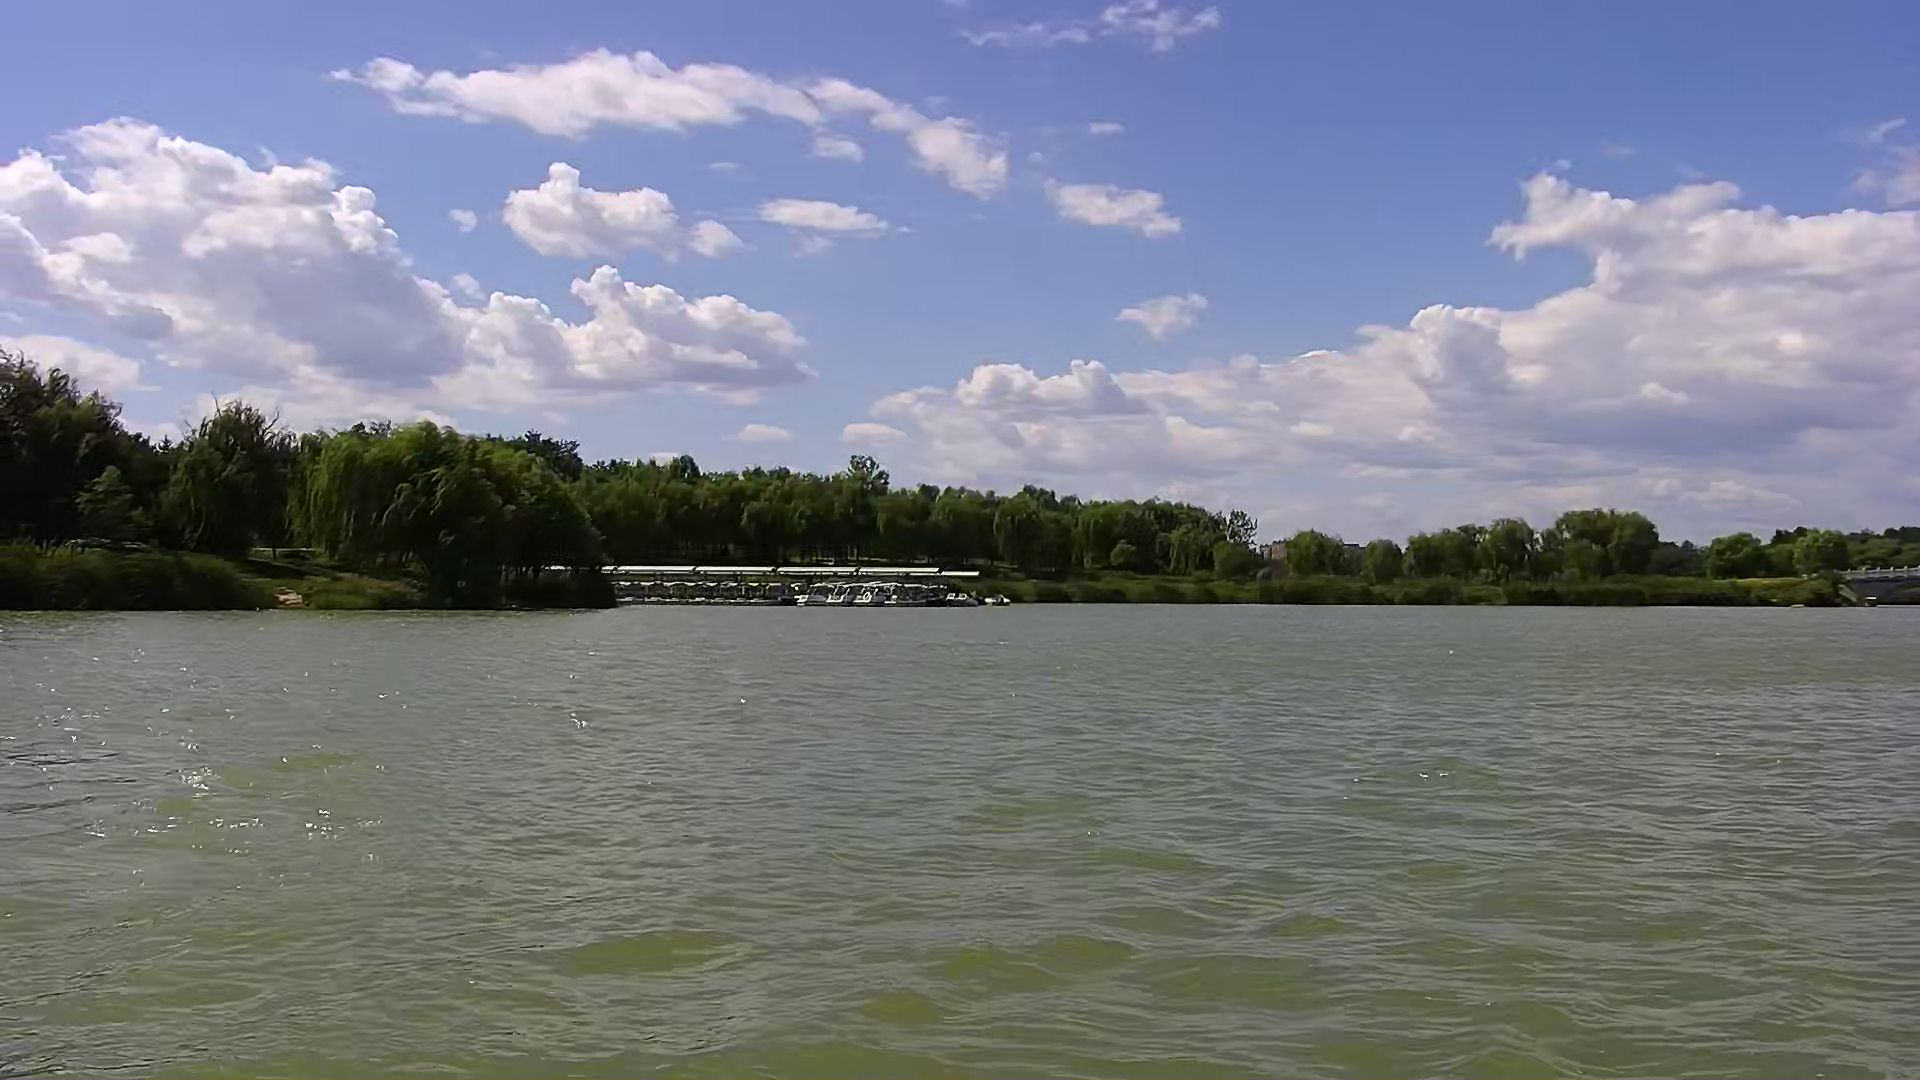harbor: (607, 558, 1006, 611)
